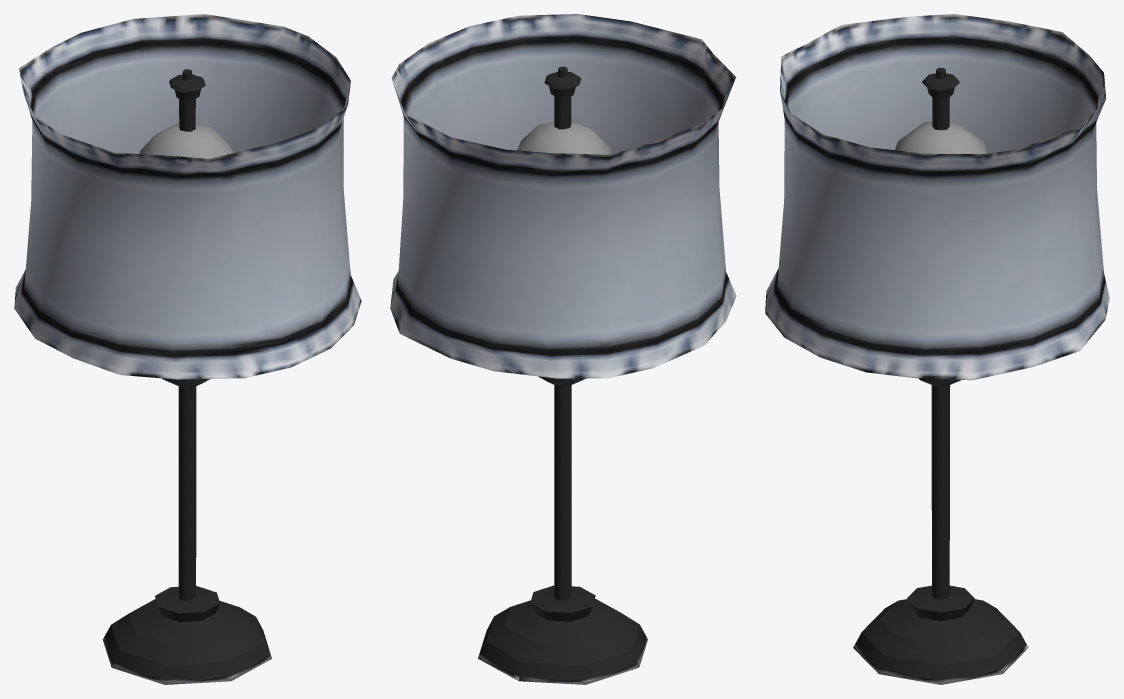
File: TableLamp01.FBX
3 renders of one model, left to right at view 1: azimuth 30°, elevation 25°; view 2: azimuth 150°, elevation 25°; view 3: azimuth 270°, elevation 25°, orthographic.
Parts seen in each view (by area): view 1: TableLamp0102, TableLamp01, Light; view 2: TableLamp0102, TableLamp01, Light; view 3: TableLamp0102, TableLamp01, Light.
Boxes of the visible parts, x1=… form: TableLamp0102: x1=14, y1=14, x2=361, y2=379; TableLamp01: x1=102, y1=69, x2=271, y2=684; Light: x1=139, y1=123, x2=232, y2=158; TableLamp0102: x1=390, y1=14, x2=736, y2=378; TableLamp01: x1=478, y1=66, x2=647, y2=684; Light: x1=517, y1=120, x2=611, y2=154; TableLamp0102: x1=765, y1=14, x2=1109, y2=380; TableLamp01: x1=853, y1=67, x2=1028, y2=684; Light: x1=895, y1=122, x2=987, y2=153.
Size of the model in its own units: 41.53 by 76.62 by 41.35.
